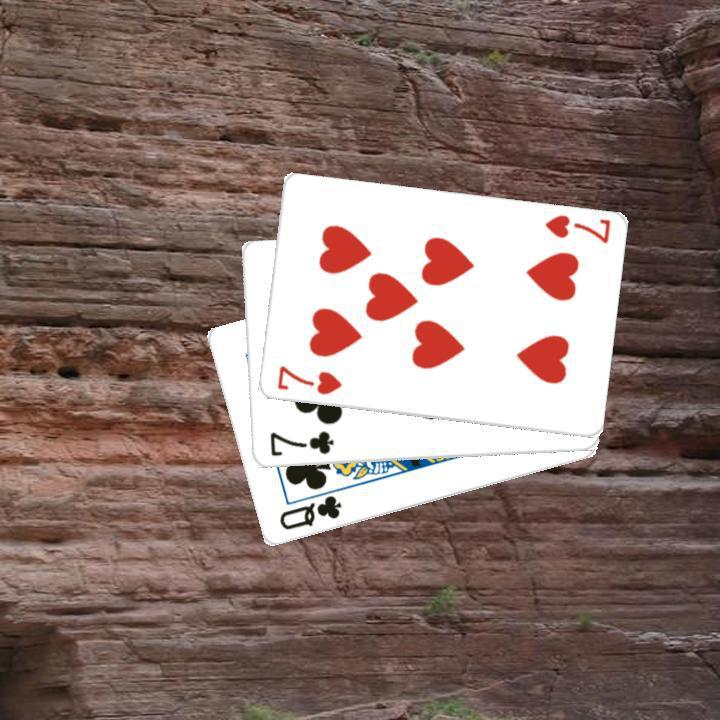7: (540, 210, 612, 246), (272, 362, 344, 397), (265, 427, 335, 459)
Q: (274, 491, 344, 533)
